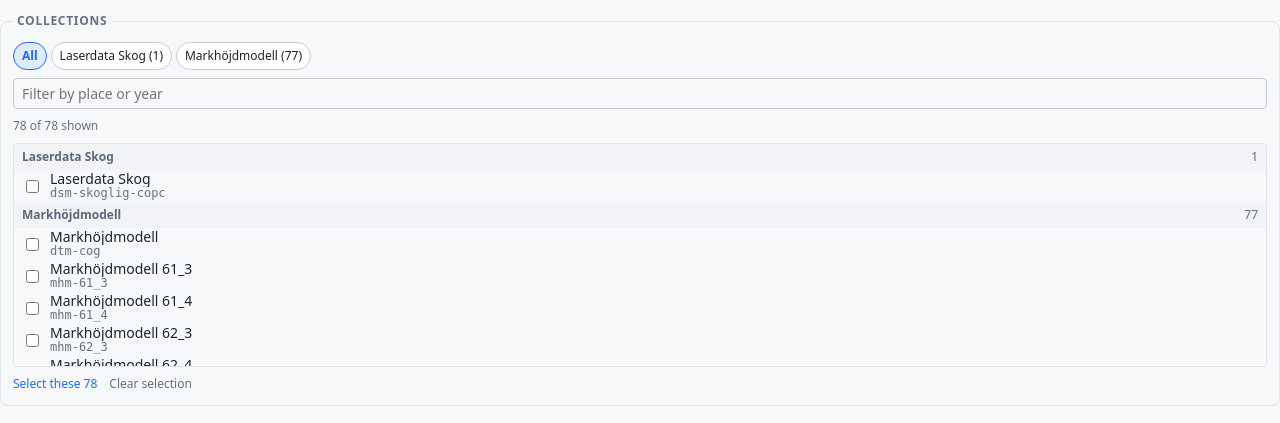
Test: product grouping › goes back to everything when "All" is clicked again
Click the button "Laserdata Skog (1)". click: (111, 56)
box: [51,42,172,70]
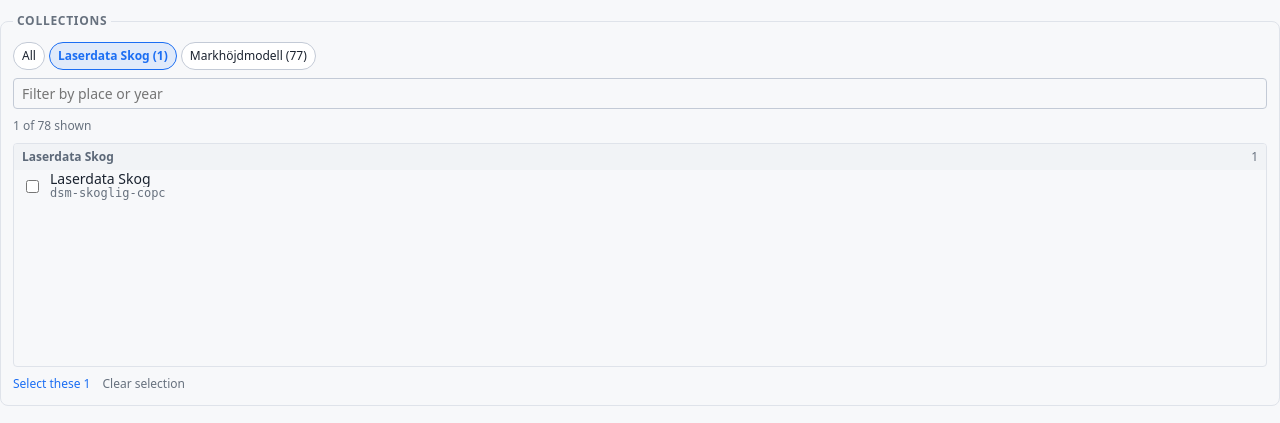
Click the button "All". click: (29, 56)
box: [13,42,45,70]
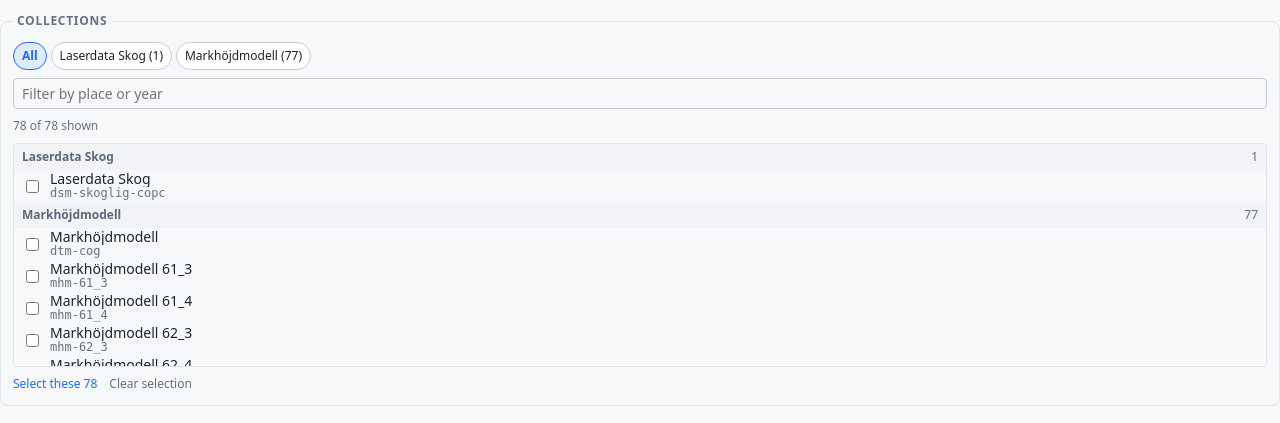
Now the message with class "status" shows "78 of 78", box [13,117,98,134]
